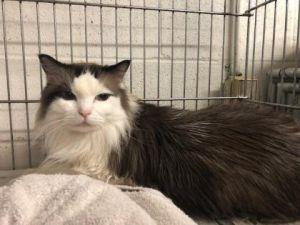ragdoll: (34, 44, 140, 154)
